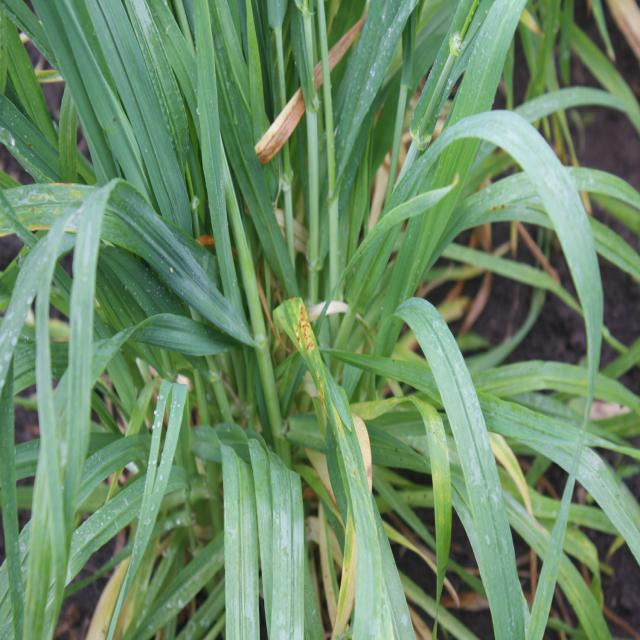wheat-stemrust: (298, 305, 312, 341), (292, 324, 303, 350), (306, 338, 314, 353), (315, 367, 320, 381), (319, 394, 324, 406), (352, 470, 357, 479), (342, 458, 350, 463), (321, 385, 324, 396)
